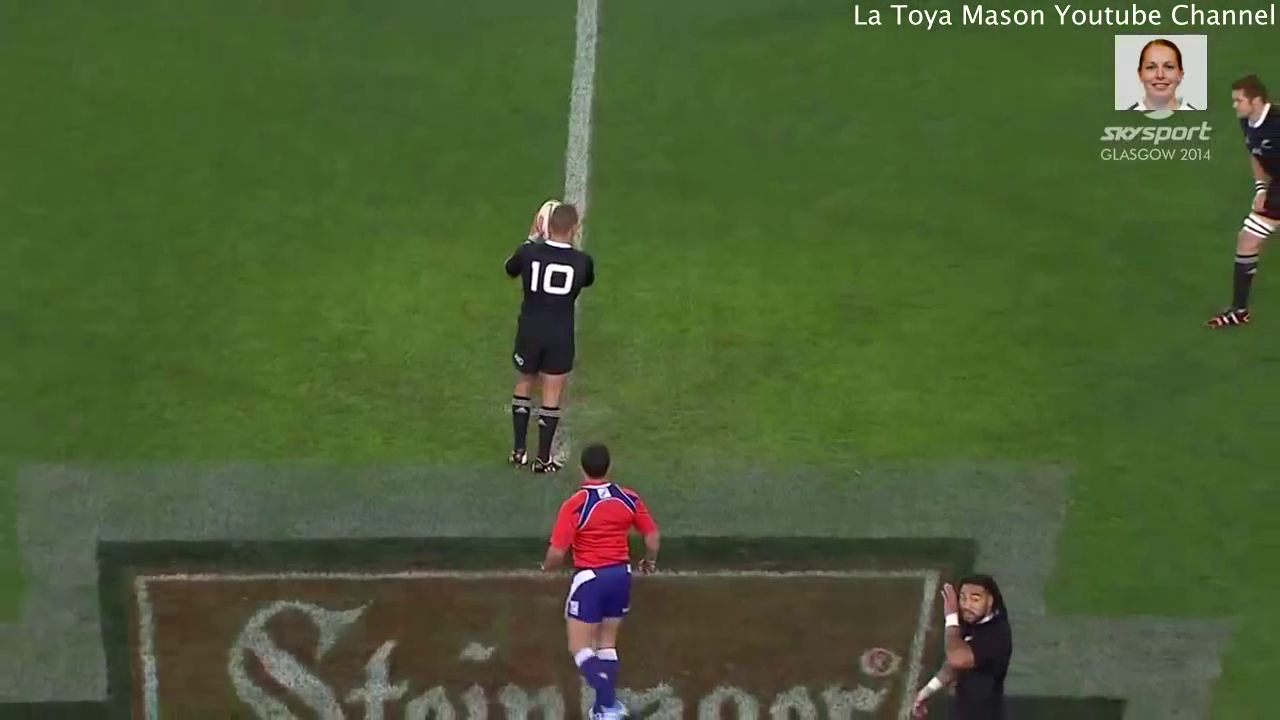ball: (523, 184, 570, 255)
player: (537, 443, 669, 720), (483, 185, 597, 488), (1200, 64, 1280, 341), (906, 564, 1013, 720)
